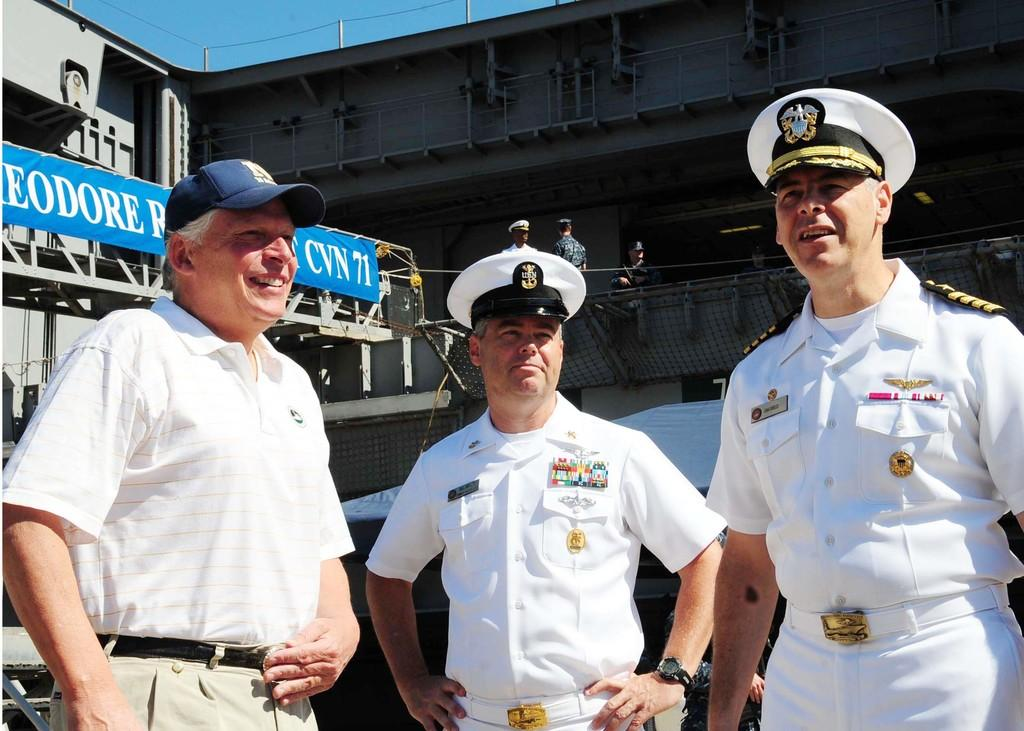Hat: (746, 85, 918, 193), (162, 160, 325, 244), (446, 251, 590, 330), (507, 216, 528, 231), (631, 239, 645, 249)
